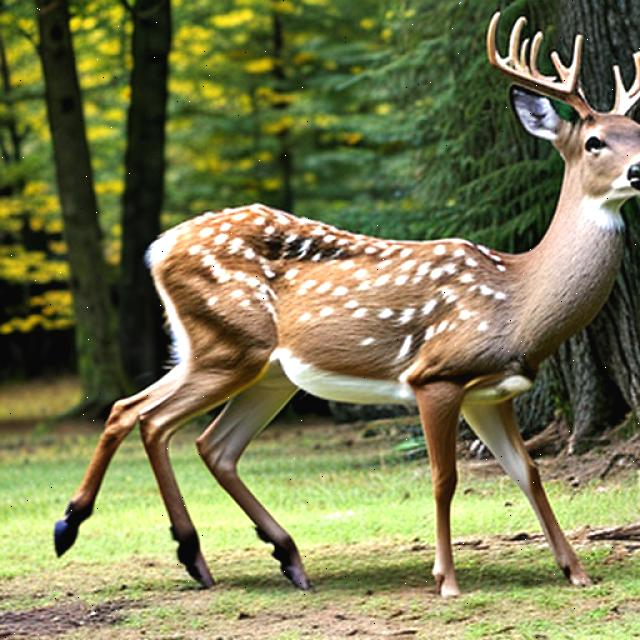deer: (64, 1, 640, 640)
